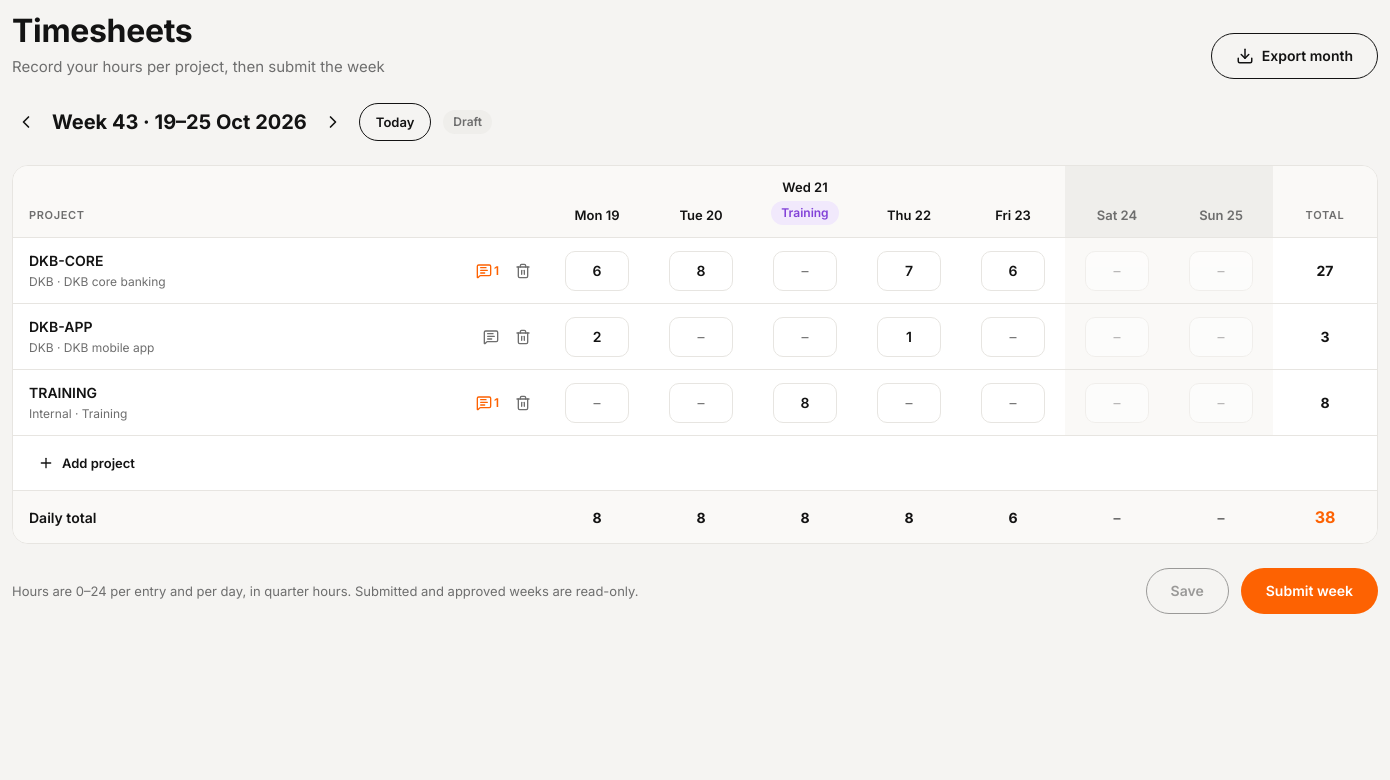
Test case: TimesheetsView › explains a 409 when the week was submitted meanwhile, and shows it read-only
Check: the table is shown, box [13, 166, 1377, 543]
Type "2" into the 6th field with placeholder "–" at (1013, 337), box [981, 317, 1045, 357]
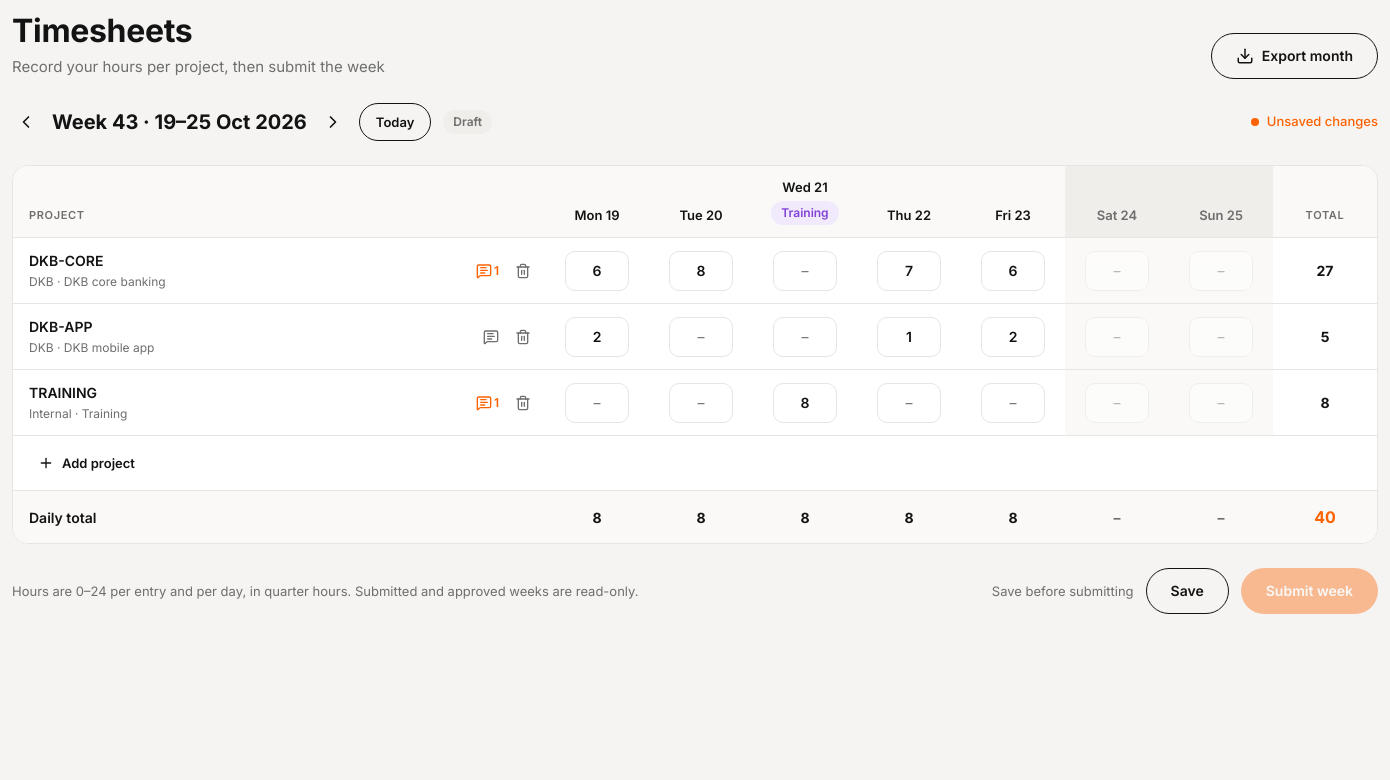
Click the button "Save" at (1187, 591), box [1146, 568, 1229, 614]
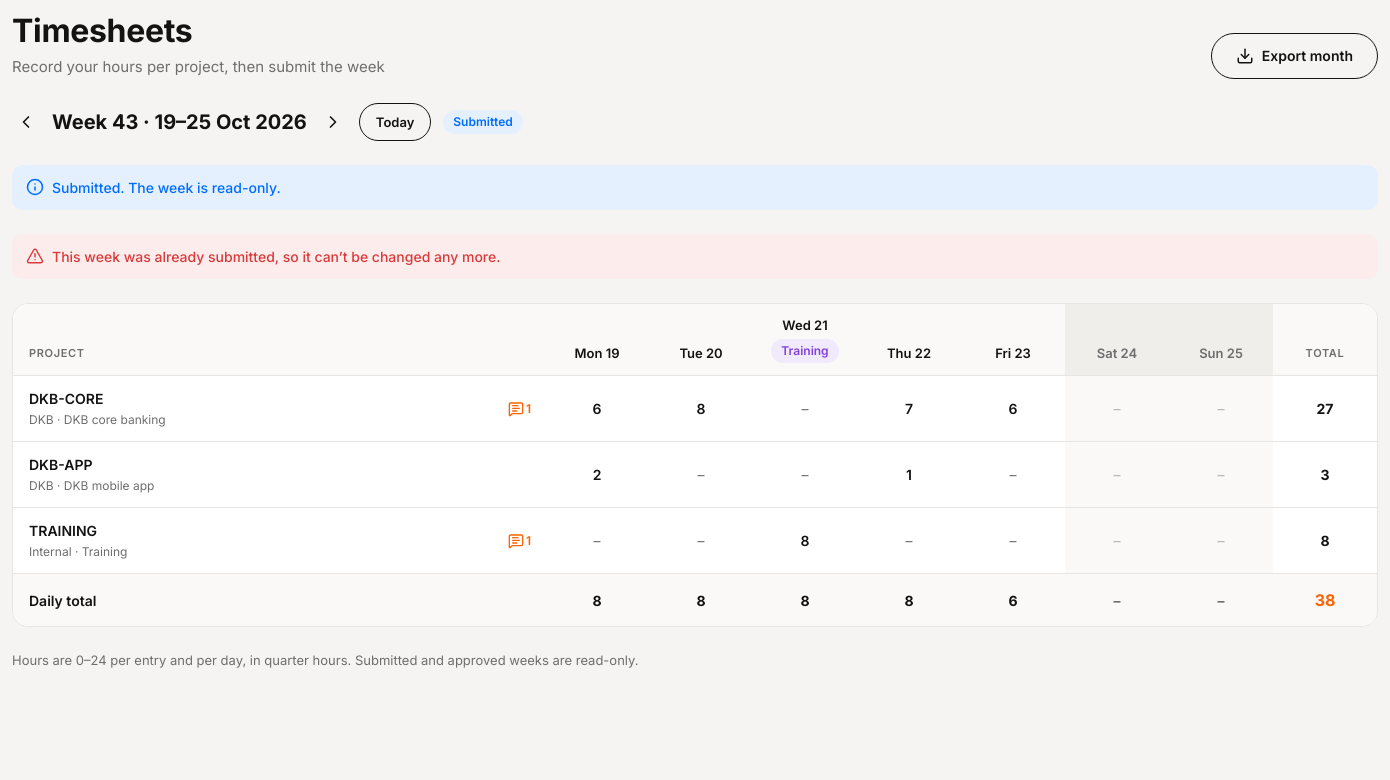
Check: the message "This week was already submitted, so it can’t be changed any more." is shown, box [12, 234, 1378, 279]
Check: the text with class "badge" reads "Submitted", box [453, 114, 513, 129]
Check: no fields are shown
